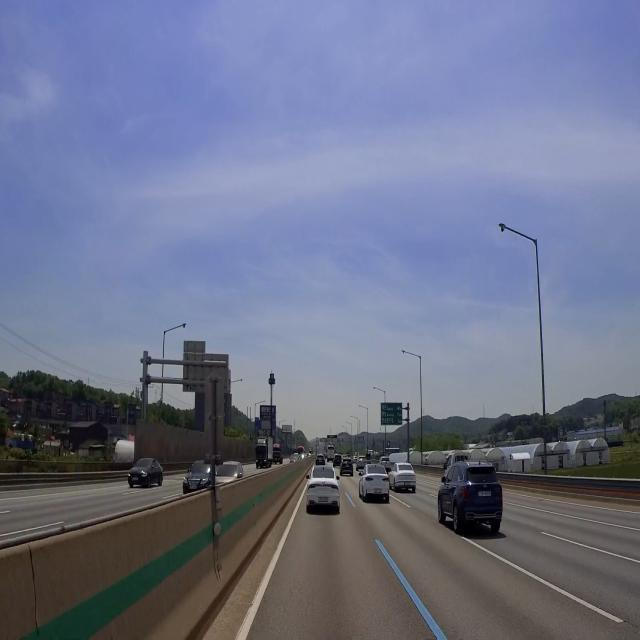car: (475, 485, 495, 501), (370, 483, 386, 502), (315, 495, 331, 509), (401, 476, 413, 494), (187, 481, 200, 493), (130, 473, 140, 485)
